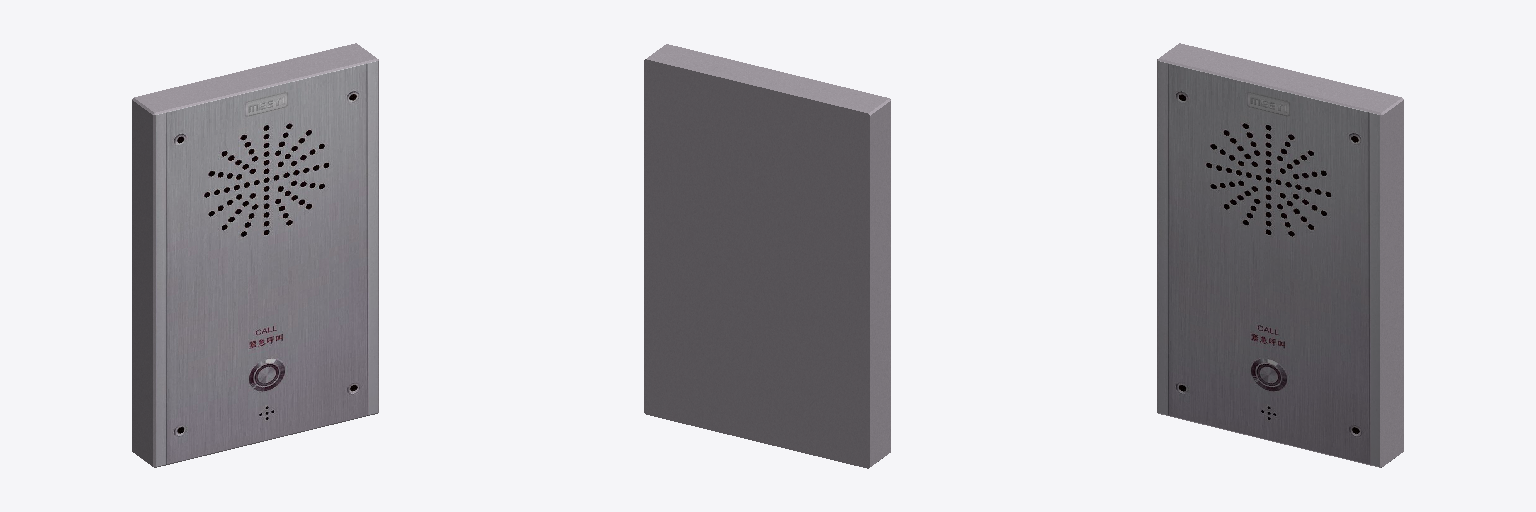
The picture shows the model from 3 angles: view 1: azimuth 30°, elevation 25°; view 2: azimuth 150°, elevation 25°; view 3: azimuth 330°, elevation 25°; orthographic projection.
Visible parts, largest first — view 1: zbv_model; view 2: zbv_model; view 3: zbv_model.
Boxes of the visible parts, x1,y1,x2,y2 form: zbv_model: [132, 43, 378, 467]; zbv_model: [644, 44, 890, 468]; zbv_model: [1157, 43, 1403, 467].
Bounding box in the file's own units: 10 × 15 × 1.68.
Materials: 1 (1 with a texture image).